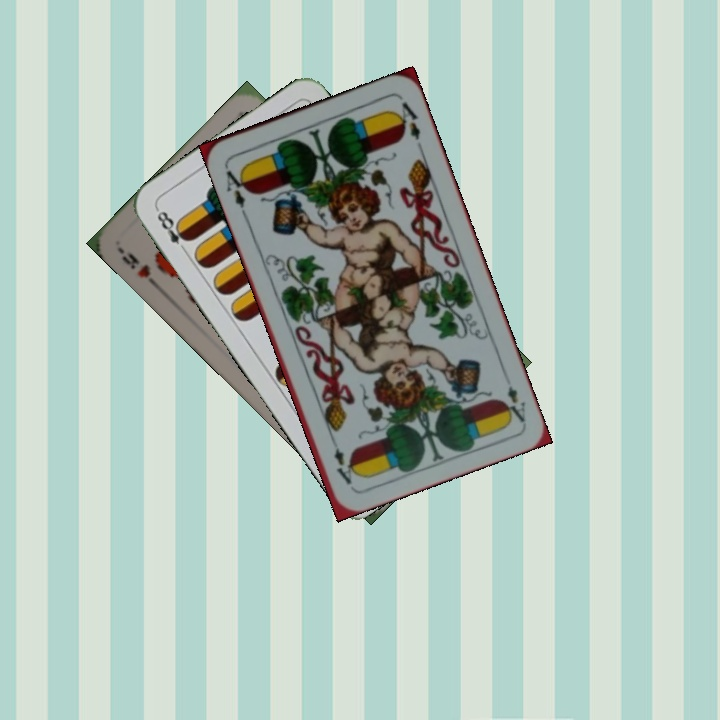E8: (152, 205, 193, 257)
EA: (222, 165, 252, 219), (499, 381, 528, 425)
H9: (117, 248, 162, 291)
